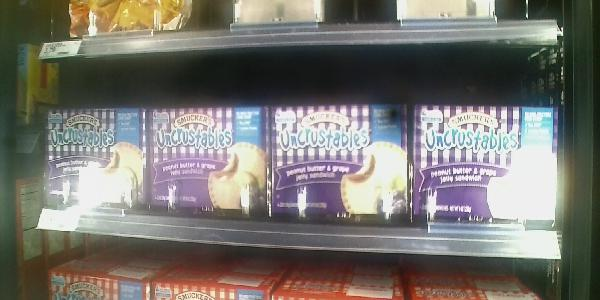icecream: (413, 98, 560, 234), (272, 102, 412, 229), (147, 105, 267, 225), (43, 108, 144, 214)
